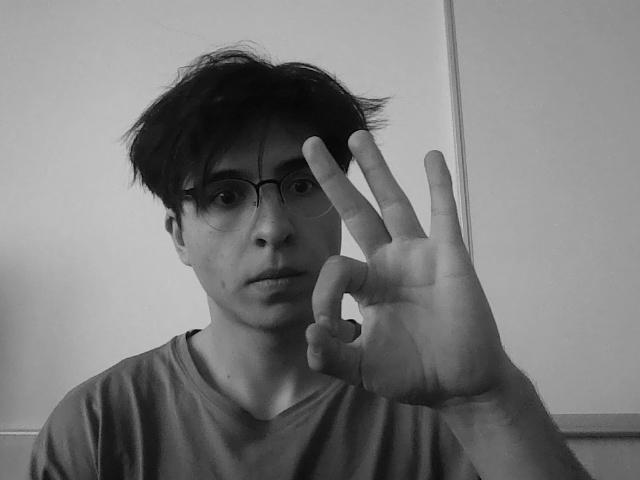OK: (293, 132, 516, 429)
